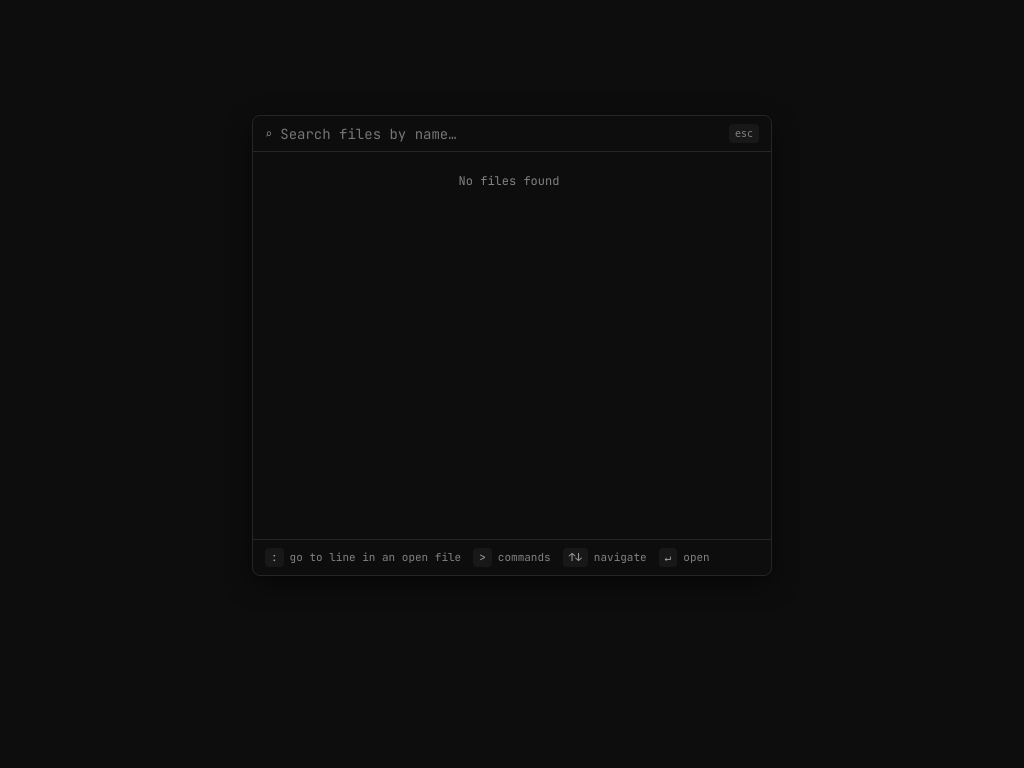
QuickOpen › 5.T4b: default mode shows hints for line jump and commands; clicking a hint enters that mode
Expected: the element with test id "quick-open-hints" shows "commands", [473,548,551,567]
Click the button ": go to line in an open file" at [363, 558], box [265,548,461,567]
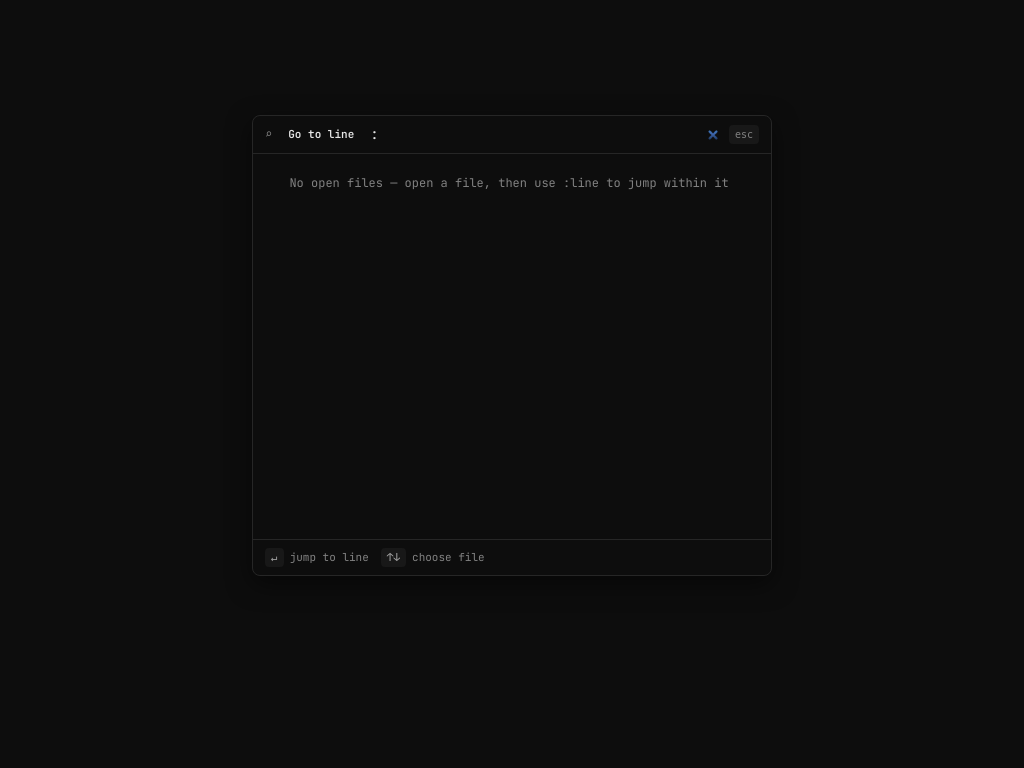
Expected: the text "Go to line" is shown, [288,127,354,141]
Now the search field holds ":", box [370,125,721,143]
